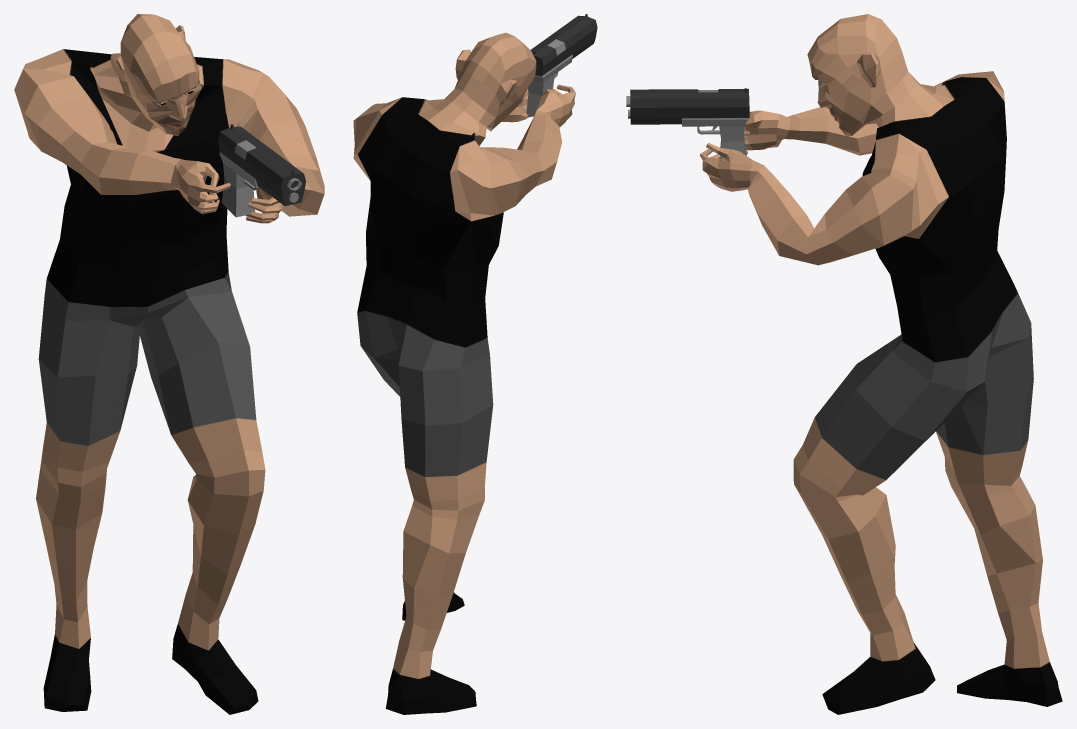
The model's file is PlayerWalk(0).obj.
3 renders of one model, left to right at view 1: azimuth 30°, elevation 25°; view 2: azimuth 150°, elevation 25°; view 3: azimuth 270°, elevation 25°, orthographic. The views are drawn at different scales.
Parts seen in each view (by area): view 1: Plane002, Box003; view 2: Plane002, Box003; view 3: Plane002, Box003.
Part boxes in pixels (x1,y1,x2,y2): Plane002: (14,14,324,714); Box003: (218,124,306,217); Plane002: (353,32,575,714); Box003: (526,14,597,115); Plane002: (699,14,1062,714); Box003: (626,88,749,158).
Bounding box in the file's own units: 575 × 1731 × 1001.
